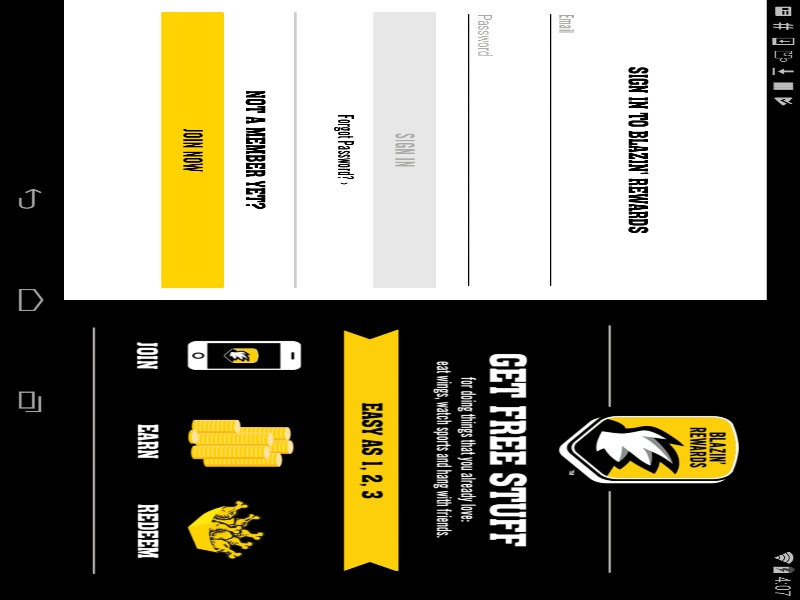Input: (25, 97, 614, 122), (25, 135, 614, 160)
